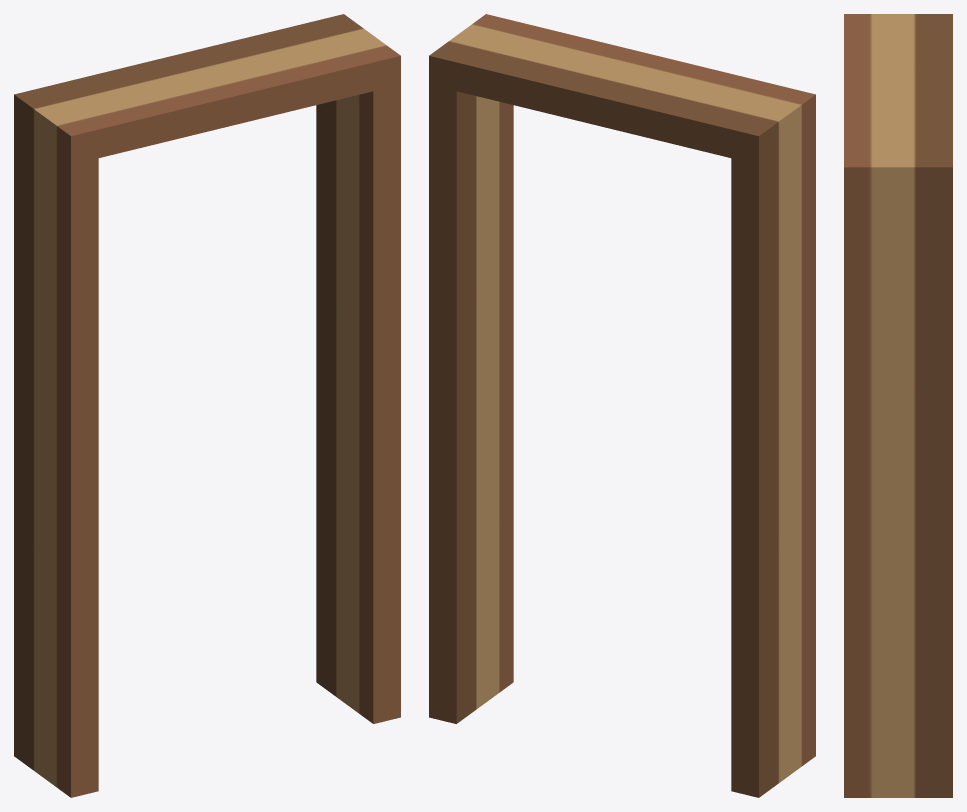
File: DBK_Trim_Door_Metal_Thick.fbx
The picture shows the model from 3 angles, left to right: view 1: azimuth 30°, elevation 25°; view 2: azimuth 150°, elevation 25°; view 3: azimuth 270°, elevation 25°; orthographic projection. The views are drawn at different scales.
Parts seen in each view (by area): view 1: DBK_Trim_Door_Metal_Thick; view 2: DBK_Trim_Door_Metal_Thick; view 3: DBK_Trim_Door_Metal_Thick.
Part boxes in pixels (x1=…): DBK_Trim_Door_Metal_Thick: x1=14, y1=14, x2=400, y2=797; DBK_Trim_Door_Metal_Thick: x1=429, y1=14, x2=815, y2=797; DBK_Trim_Door_Metal_Thick: x1=844, y1=14, x2=952, y2=797.
Bounding box in the file's own units: 120 × 230 × 35.94.
